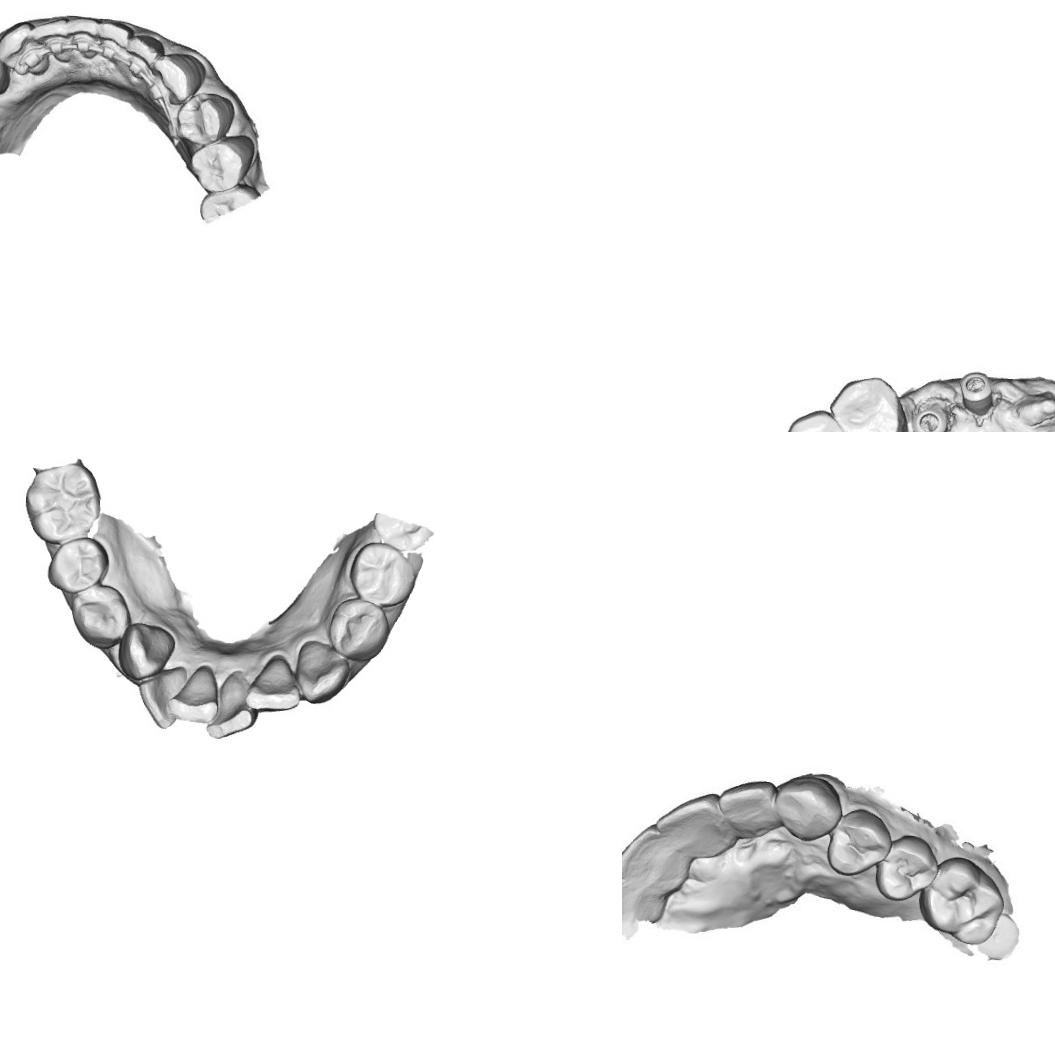canine: (778, 779, 843, 843), (115, 620, 176, 684), (296, 641, 348, 707), (150, 54, 204, 105), (0, 20, 44, 71)
implant: (961, 370, 1001, 424), (911, 403, 948, 432)
incisor: (722, 780, 790, 844), (622, 826, 686, 892), (659, 795, 728, 855), (206, 672, 256, 742), (170, 666, 222, 726), (136, 664, 184, 729), (250, 654, 303, 711), (622, 875, 667, 929), (96, 10, 134, 64), (28, 14, 70, 59), (65, 14, 104, 60), (126, 32, 168, 70)
molar: (24, 461, 102, 544), (931, 860, 1006, 943)
premolar: (826, 800, 894, 876), (349, 538, 414, 609), (833, 374, 909, 432), (70, 582, 132, 649), (876, 836, 938, 902), (47, 534, 110, 596), (327, 599, 388, 659), (174, 87, 236, 146), (192, 142, 246, 190), (783, 407, 856, 432)
